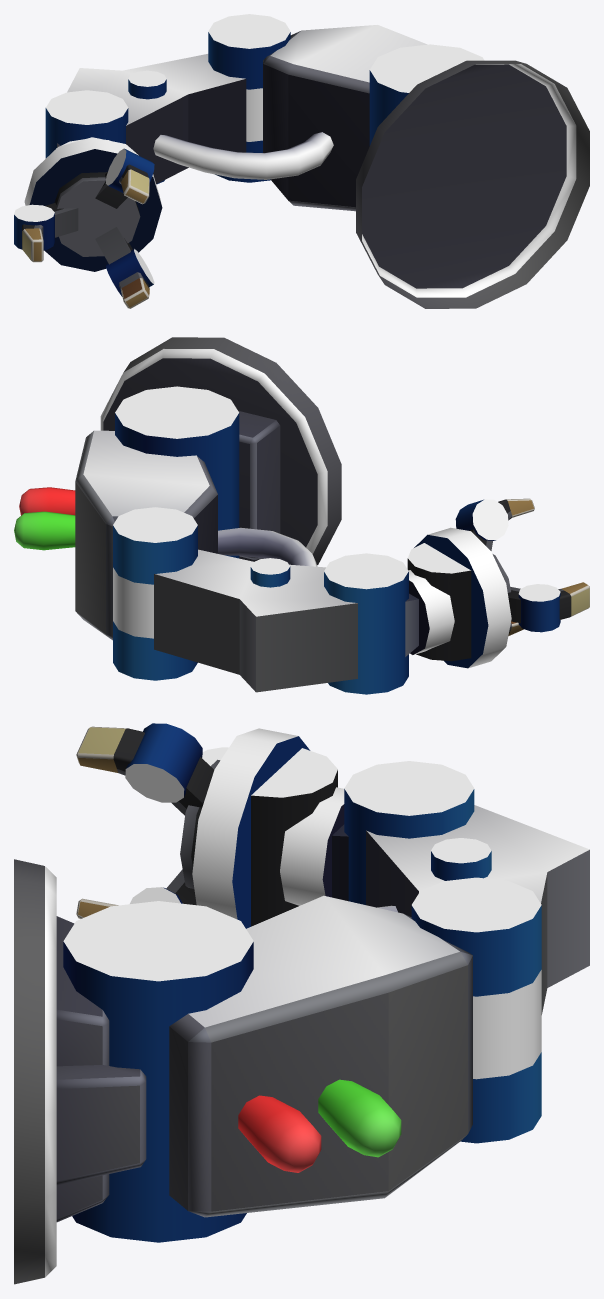
The model's file is GarysLabArm.fbx.
3 views of the same model, one above another, from view 1: azimuth 30°, elevation 25°; view 2: azimuth 150°, elevation 25°; view 3: azimuth 270°, elevation 25° (orthographic). The views are drawn at different scales.
Visible parts, largest first — view 1: GarysLabArm; view 2: GarysLabArm; view 3: GarysLabArm.
Boxes of the visible parts, <box> form: GarysLabArm: <box>14,14,589,308</box>; GarysLabArm: <box>14,337,589,694</box>; GarysLabArm: <box>14,723,589,1284</box>.
Bounding box in the file's own units: 124 × 56.25 × 76.17.
